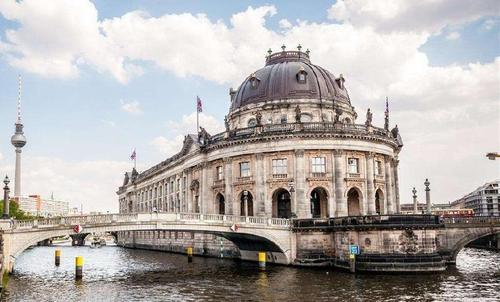buildings: (83, 101, 476, 265), (222, 37, 358, 149)
